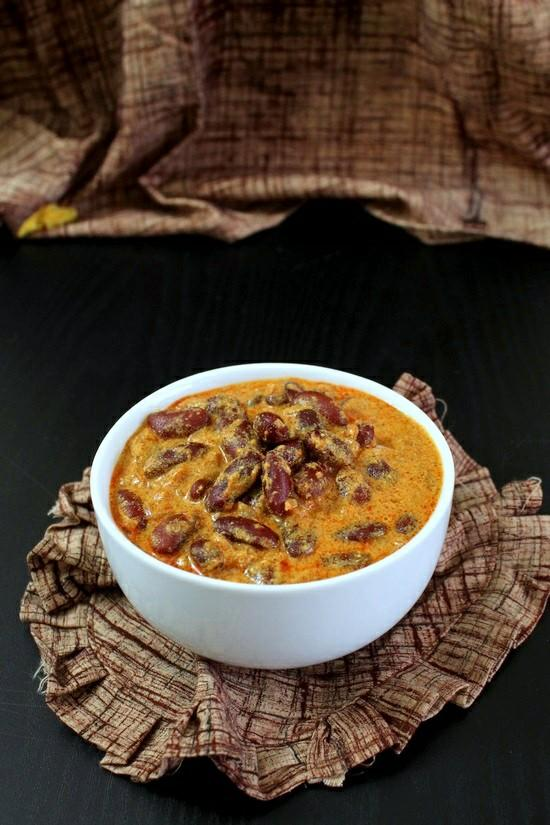RajmaCurry: (112, 376, 443, 589)
